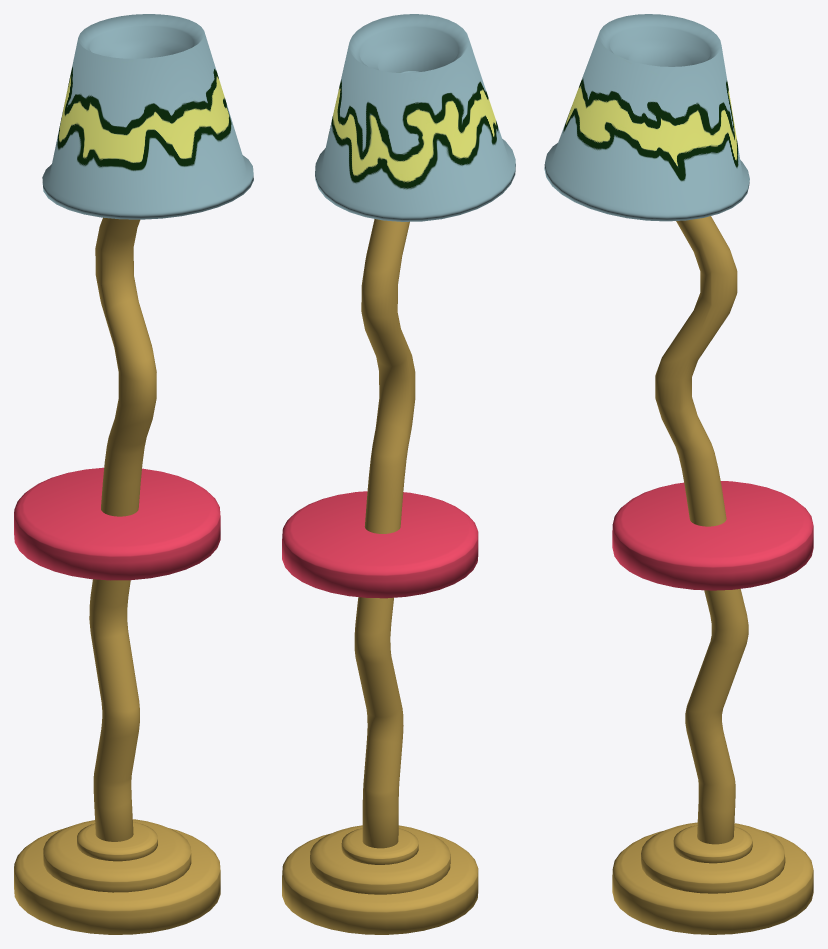
Rendered from Lampara_Rocko.obj.
The picture shows the model from 3 angles, left to right: view 1: azimuth 30°, elevation 25°; view 2: azimuth 150°, elevation 25°; view 3: azimuth 270°, elevation 25°; orthographic projection. The views are drawn at different scales.
Visible parts, largest first — view 1: Lampara_Rocko:Mesh; view 2: Lampara_Rocko:Mesh; view 3: Lampara_Rocko:Mesh.
Boxes of the visible parts, bbox=[...] form: Lampara_Rocko:Mesh: bbox=[14, 14, 253, 934]; Lampara_Rocko:Mesh: bbox=[282, 14, 515, 934]; Lampara_Rocko:Mesh: bbox=[544, 14, 813, 934].
Size of the model in its own units: 1.12 by 5.12 by 1.46.
1 material, 1 textured.
